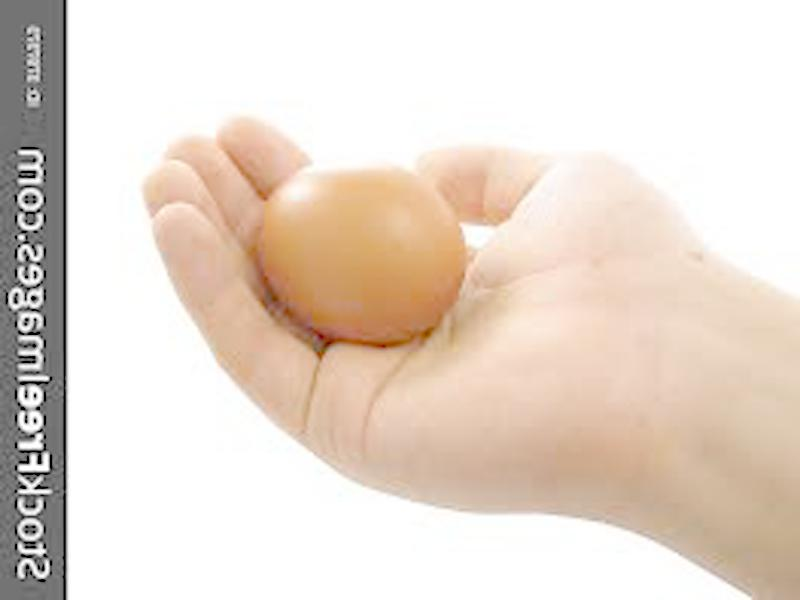Eggs: (242, 163, 467, 339)
